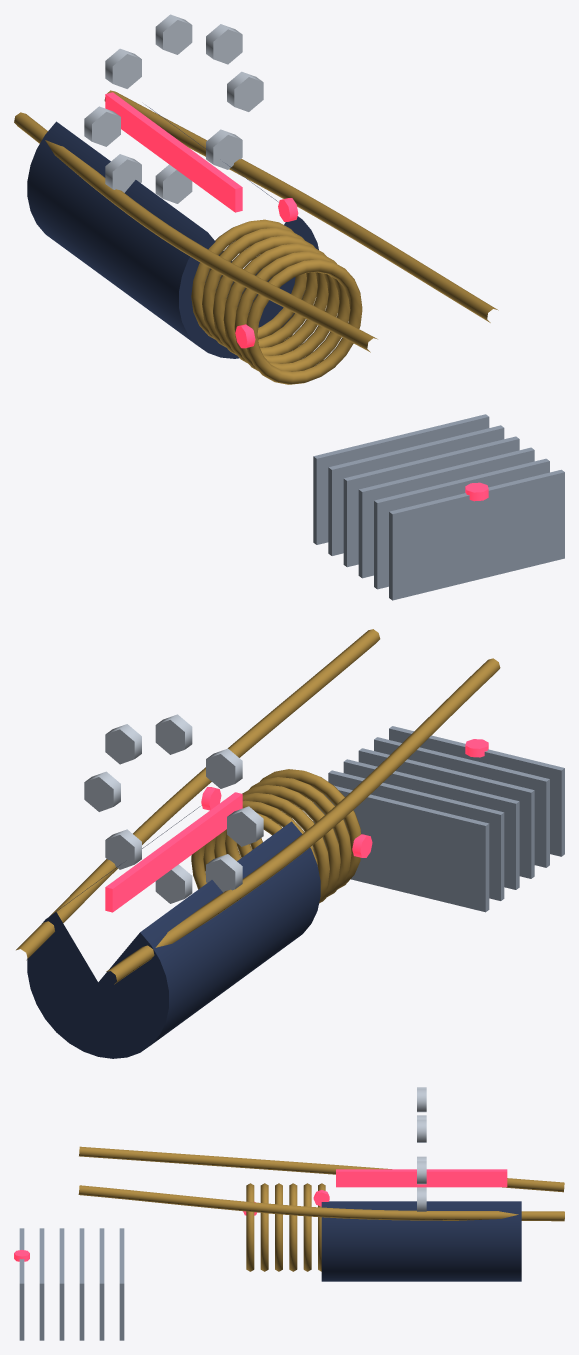
File: tower_filament_ramp_s5.glb
3 views of the same model, one above another, from view 1: azimuth 30°, elevation 25°; view 2: azimuth 150°, elevation 25°; view 3: azimuth 270°, elevation 25° (orthographic). The views are drawn at different scales.
Visible parts, largest first — view 1: filament_radiator_b, filament_heat_shroud, filament_shroud_bolts, filament_heat_pipe_r, filament_heat_pipe_l, filament_shroud_glow, filament_coil_sleeve0, filament_coil_sleeve2, filament_coil_sleeve3, filament_coil_sleeve1, filament_coil_sleeve4, filament_coil_sleeve5; view 2: filament_radiator_b, filament_heat_shroud, filament_shroud_bolts, filament_heat_pipe_r, filament_heat_pipe_l, filament_shroud_glow, filament_coil_sleeve2, filament_coil_sleeve1, filament_coil_sleeve3, filament_coil_sleeve0, filament_coil_sleeve4, filament_coil_sleeve5; view 3: filament_heat_shroud, filament_heat_pipe_l, filament_radiator_b, filament_heat_pipe_r, filament_shroud_glow, filament_shroud_bolts, filament_coil_sleeve4, filament_coil_sleeve3, filament_coil_sleeve0, filament_coil_sleeve1, filament_coil_sleeve2.
Part boxes in pixels (bbox=[...]): filament_radiator_b: bbox=[313, 414, 564, 600]; filament_heat_shroud: bbox=[27, 105, 318, 358]; filament_shroud_bolts: bbox=[84, 14, 263, 203]; filament_heat_pipe_r: bbox=[14, 112, 377, 352]; filament_heat_pipe_l: bbox=[104, 90, 498, 322]; filament_shroud_glow: bbox=[105, 92, 242, 212]; filament_coil_sleeve0: bbox=[246, 259, 362, 384]; filament_coil_sleeve2: bbox=[223, 243, 339, 363]; filament_coil_sleeve3: bbox=[213, 235, 328, 355]; filament_coil_sleeve1: bbox=[234, 251, 349, 371]; filament_coil_sleeve4: bbox=[202, 227, 317, 347]; filament_coil_sleeve5: bbox=[191, 219, 306, 339]; filament_radiator_b: bbox=[313, 726, 564, 912]; filament_heat_shroud: bbox=[27, 805, 320, 1058]; filament_shroud_bolts: bbox=[84, 714, 263, 903]; filament_heat_pipe_r: bbox=[106, 658, 500, 984]; filament_heat_pipe_l: bbox=[16, 629, 380, 960]; filament_shroud_glow: bbox=[105, 792, 242, 912]; filament_coil_sleeve2: bbox=[225, 785, 340, 903]; filament_coil_sleeve1: bbox=[237, 777, 351, 896]; filament_coil_sleeve3: bbox=[214, 793, 329, 900]; filament_coil_sleeve0: bbox=[250, 769, 361, 888]; filament_coil_sleeve4: bbox=[203, 800, 318, 872]; filament_coil_sleeve5: bbox=[191, 813, 282, 889]; filament_heat_shroud: bbox=[321, 1201, 521, 1281]; filament_heat_pipe_l: bbox=[78, 1185, 564, 1221]; filament_radiator_b: bbox=[19, 1228, 124, 1340]; filament_heat_pipe_r: bbox=[79, 1146, 564, 1192]; filament_shroud_glow: bbox=[336, 1169, 507, 1187]; filament_shroud_bolts: bbox=[417, 1087, 426, 1211]; filament_coil_sleeve4: bbox=[303, 1183, 311, 1271]; filament_coil_sleeve3: bbox=[289, 1183, 297, 1271]; filament_coil_sleeve0: bbox=[246, 1183, 254, 1271]; filament_coil_sleeve1: bbox=[260, 1183, 268, 1271]; filament_coil_sleeve2: bbox=[275, 1183, 282, 1271].
Size of the model in its own units: 0.46 by 0.865 by 1.93.
